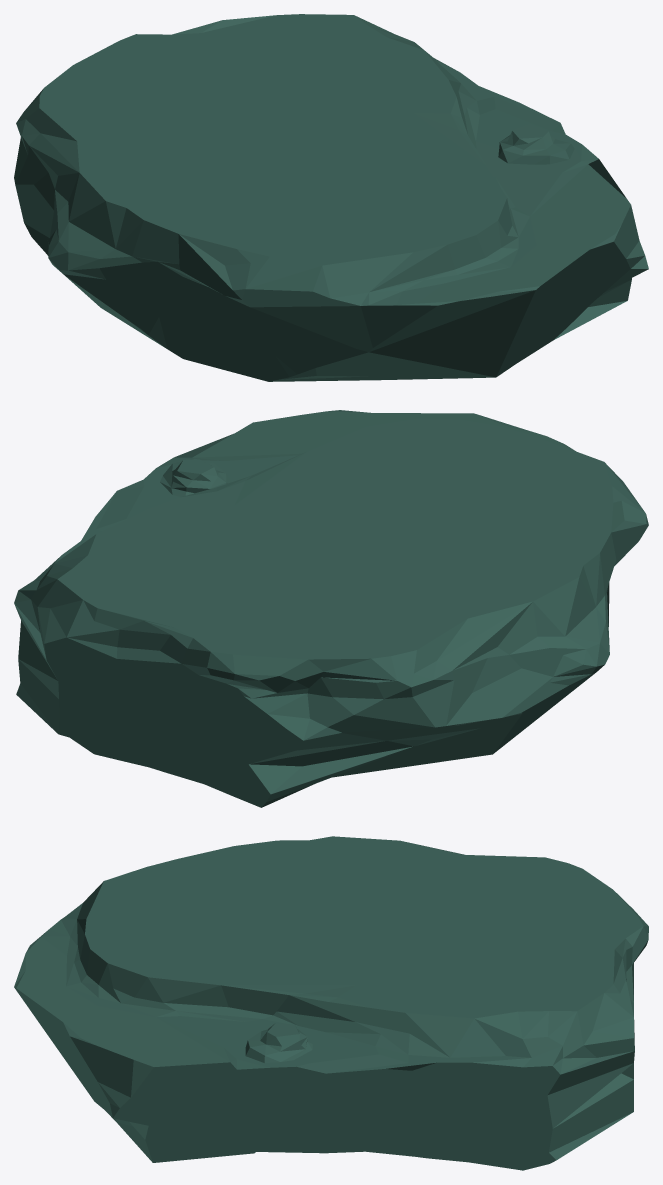
File: Stone_18.fbx
3 renders of one model, top to bottom at view 1: azimuth 30°, elevation 25°; view 2: azimuth 150°, elevation 25°; view 3: azimuth 270°, elevation 25°, orthographic. The views are drawn at different scales.
Parts seen in each view (by area): view 1: Stone 18; view 2: Stone 18; view 3: Stone 18.
Boxes of the visible parts, x1,y1,x2,y2 form: Stone 18: (14, 14, 648, 381); Stone 18: (14, 410, 648, 807); Stone 18: (14, 836, 648, 1170).
Size of the model in its own units: 5177 by 1697 by 6129.
